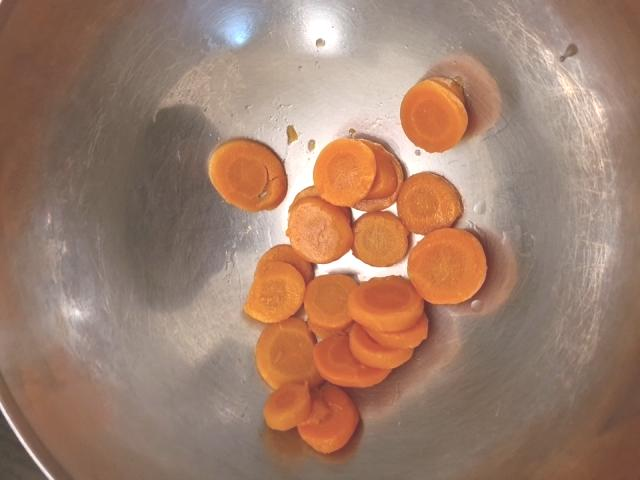kichen waste: (207, 79, 487, 454)
